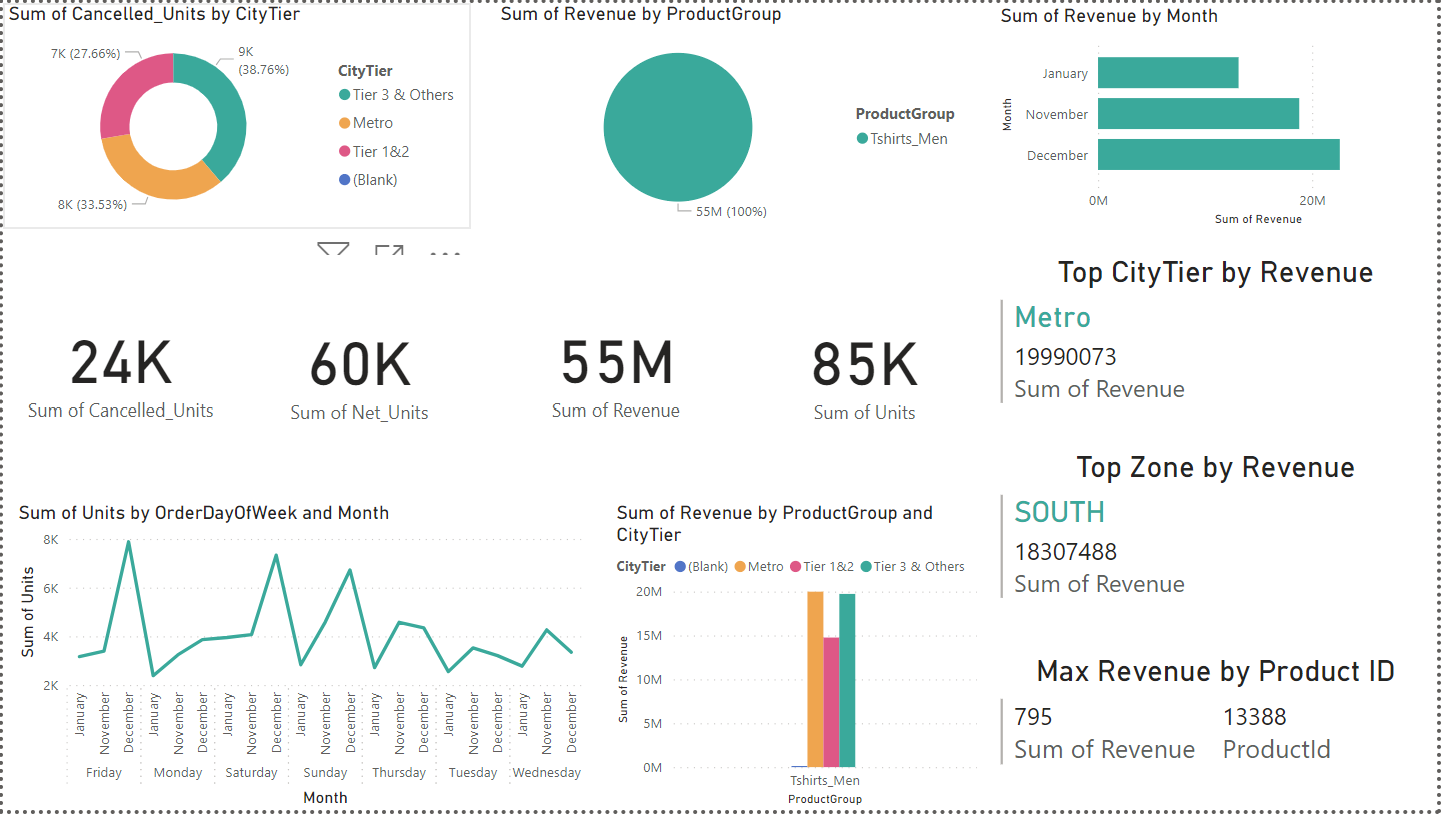

The page's visual inventory and layout, read from the dashboard file:
{"tool":"powerbi","page":{"name":"Overview","canvas":[1280,720],"ordinal":0},"visuals":[{"type":"clusteredBarChart","fields":{"Y":["Sum(Sales Raw.Revenue)"],"Category":["Sales Raw.OrderDate.Variation.Date Hierarchy.Month"]},"box":[885.7,1.4,395.7,201.4],"z":0},{"type":"lineChart","fields":{"Category":["Sales Raw.OrderDayOfWeek","Sales Raw.OrderDate.Variation.Date Hierarchy.Month"],"Y":["Sum(Sales Raw.Units)"]},"box":[9.2,444.6,512.3,276.9],"z":1000},{"type":"pieChart","fields":{"Y":["Sum(Sales Raw.Revenue)"],"Category":["Mod3_Raw_ProductMap_v0 1.ProductGroup"]},"box":[438.6,0,432.9,202.9],"z":2000},{"type":"clusteredColumnChart","fields":{"Category":["Mod3_Raw_ProductMap_v0 1.ProductGroup"],"Series":["Mod3_Raw_CityTier_v0 1.CityTier"],"Y":["Sum(Sales Raw.Revenue)"]},"box":[542.9,444.3,331.4,275.7],"z":3000},{"type":"donutChart","fields":{"Y":["Sum(Sales Raw.Cancelled_Units)"],"Category":["Mod3_Raw_CityTier_v0 1.CityTier"]},"box":[0,0,417.1,201.4],"z":4000},{"type":"card","fields":{"Values":["Sum(Sales Raw.Revenue)"]},"box":[440,222.9,215.7,201.4],"z":5000},{"type":"card","fields":{"Values":["Sum(Sales Raw.Units)"]},"box":[668.6,224.3,202.9,201.4],"z":6000},{"type":"card","fields":{"Values":["Sum(Sales Raw.Cancelled_Units)"]},"box":[0,222.9,210,201.4],"z":7000},{"type":"card","fields":{"Values":["Sum(Sales Raw.Net_Units)"]},"box":[220,224.3,197.1,201.4],"z":8000},{"type":"multiRowCard","title":"Top CityTier by Revenue","fields":{"Values":["Sum(Sales Raw.Revenue)","Mod3_Raw_CityTier_v0 1.CityTier"]},"box":[885.7,224.3,394.3,148.6],"z":9000},{"type":"multiRowCard","title":"Top Zone by Revenue","fields":{"Values":["Sum(Sales Raw.Revenue)","PinCode-Geo.Zone"]},"box":[885.7,398.6,394.3,151.4],"z":10000},{"type":"multiRowCard","title":"Max Revenue by Product ID ","fields":{"Values":["Sum(Sales Raw.Revenue)","Mod3_Raw_ProductMap_v0 1.ProductId"]},"box":[886.2,580,393.8,140],"z":11000}]}

Visuals, with their boxes in screenshot pixels (x1, y1, x2, y2), scaled from the page's 1280x720 canvas onto the 1442x814 screenshot:
clusteredBarChart - Sum(Sales Raw.Revenue) x Sales Raw.OrderDate.Variation.Date Hierarchy.Month: l=998, t=2, r=1441, b=229
lineChart - Sales Raw.OrderDayOfWeek x Sales Raw.OrderDate.Variation.Date Hierarchy.Month: l=10, t=503, r=588, b=813
pieChart - Sum(Sales Raw.Revenue) x Mod3_Raw_ProductMap_v0 1.ProductGroup: l=494, t=0, r=982, b=229
clusteredColumnChart - Mod3_Raw_ProductMap_v0 1.ProductGroup x Mod3_Raw_CityTier_v0 1.CityTier: l=612, t=502, r=985, b=813
donutChart - Sum(Sales Raw.Cancelled_Units) x Mod3_Raw_CityTier_v0 1.CityTier: l=0, t=0, r=470, b=228
card - Sum(Sales Raw.Revenue): l=496, t=252, r=739, b=480
card - Sum(Sales Raw.Units): l=753, t=254, r=982, b=481
card - Sum(Sales Raw.Cancelled_Units): l=0, t=252, r=237, b=480
card - Sum(Sales Raw.Net_Units): l=248, t=254, r=470, b=481
"Top CityTier by Revenue" multiRowCard: l=998, t=254, r=1441, b=422
"Top Zone by Revenue" multiRowCard: l=998, t=451, r=1441, b=622
"Max Revenue by Product ID " multiRowCard: l=998, t=656, r=1441, b=813
